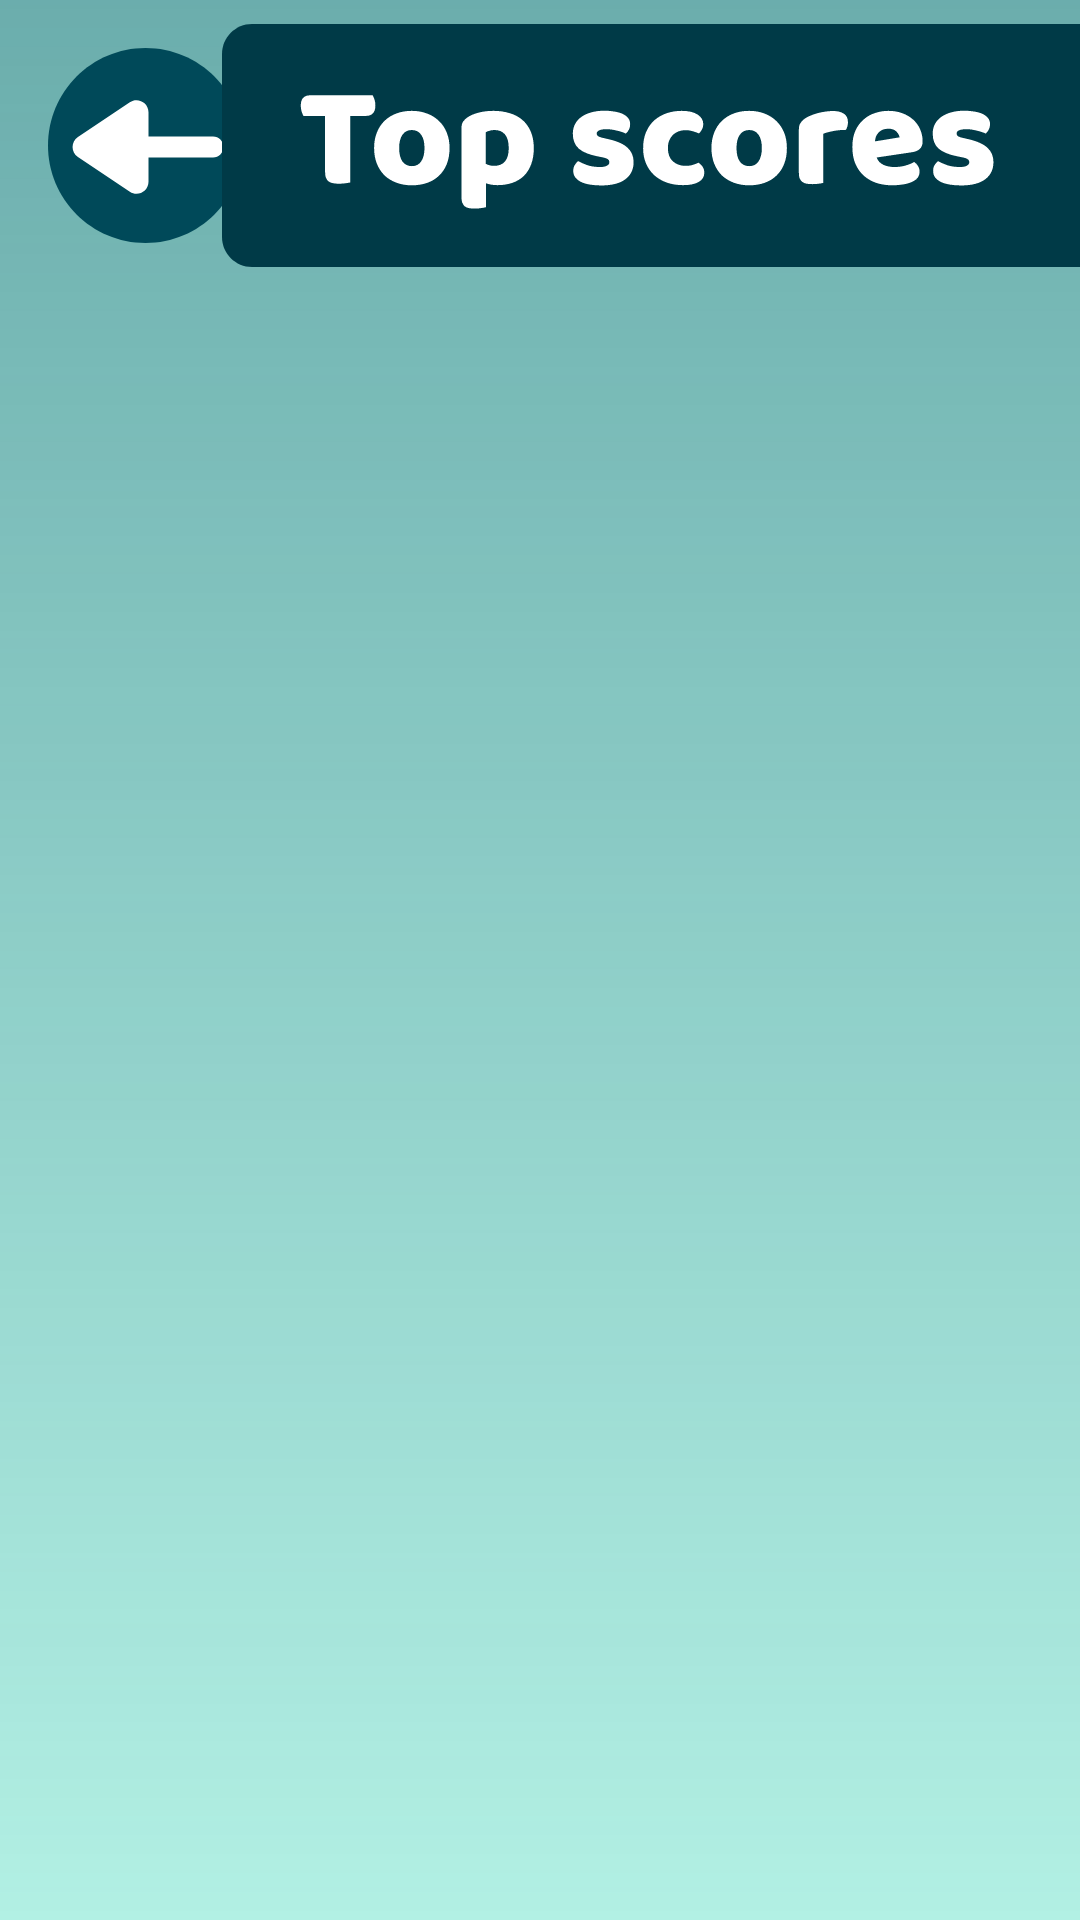

Icons on this 1080*1920 Android screen, each with its box as (x1, y1, x2, y2):
back: (48, 48, 243, 243)
